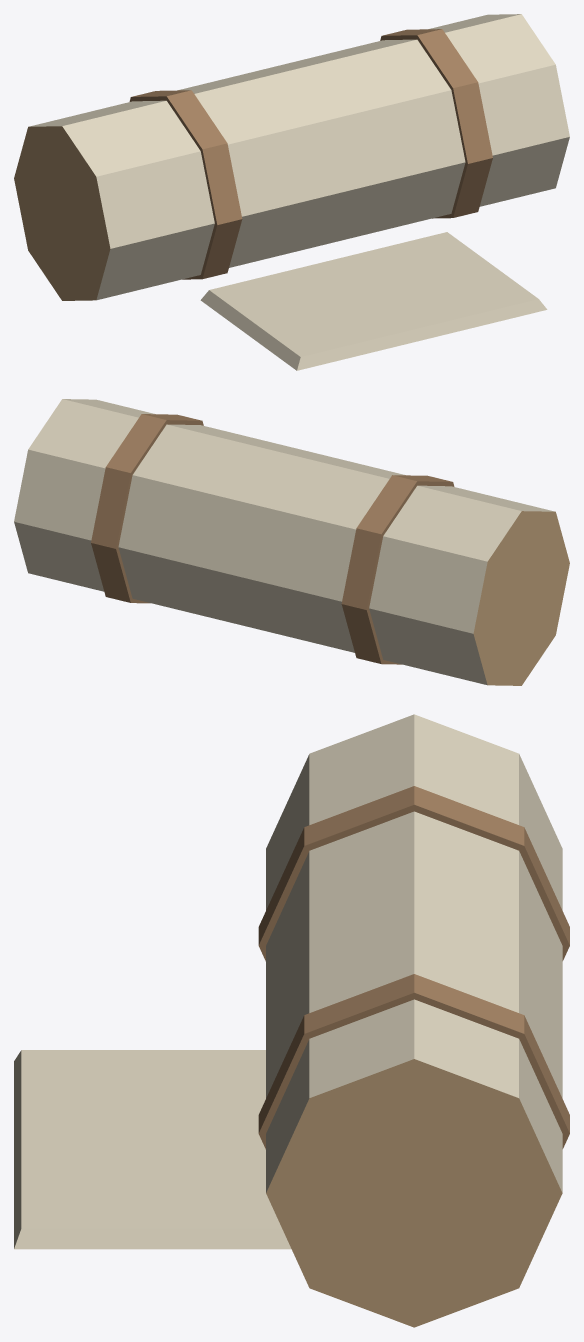
Rendered from item_055_dyed_tunic_s.glb.
3 renders of one model, top to bottom at view 1: azimuth 30°, elevation 25°; view 2: azimuth 150°, elevation 25°; view 3: azimuth 270°, elevation 25°, orthographic. The views are drawn at different scales.
Parts seen in each view (by area): view 1: item_055_dyed_tunic_s; view 2: item_055_dyed_tunic_s; view 3: item_055_dyed_tunic_s.
Part boxes in pixels (left/top/right/bottom): item_055_dyed_tunic_s: left=14, top=14, right=569, bottom=370; item_055_dyed_tunic_s: left=14, top=399, right=569, bottom=685; item_055_dyed_tunic_s: left=14, top=714, right=569, bottom=1327.
Size of the model in its own units: 0.55 by 0.21 by 0.375.
